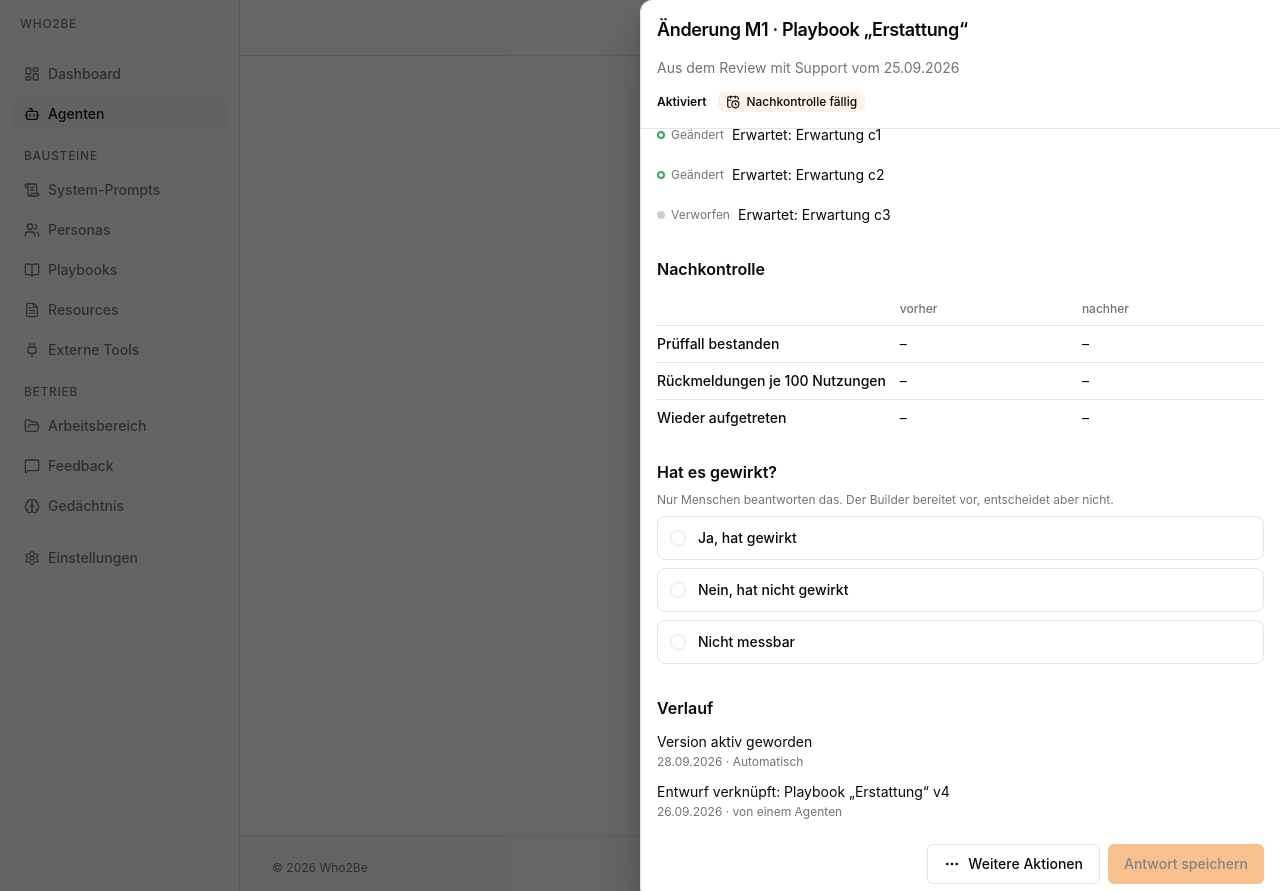
Test: ChangeActions: Fehler › sonst (session_cases_invalid): problem.detail des Servers
This screenshot has width=1280, height=891.
(page scrolled)
What coordinates should you click on to do the following:
click the radio button named "Ja, hat gewirkt" next to "Ja, hat gewirkt"
I would click on:
 (678, 538)
Its box is [670,530,686,546].
(page scrolled)
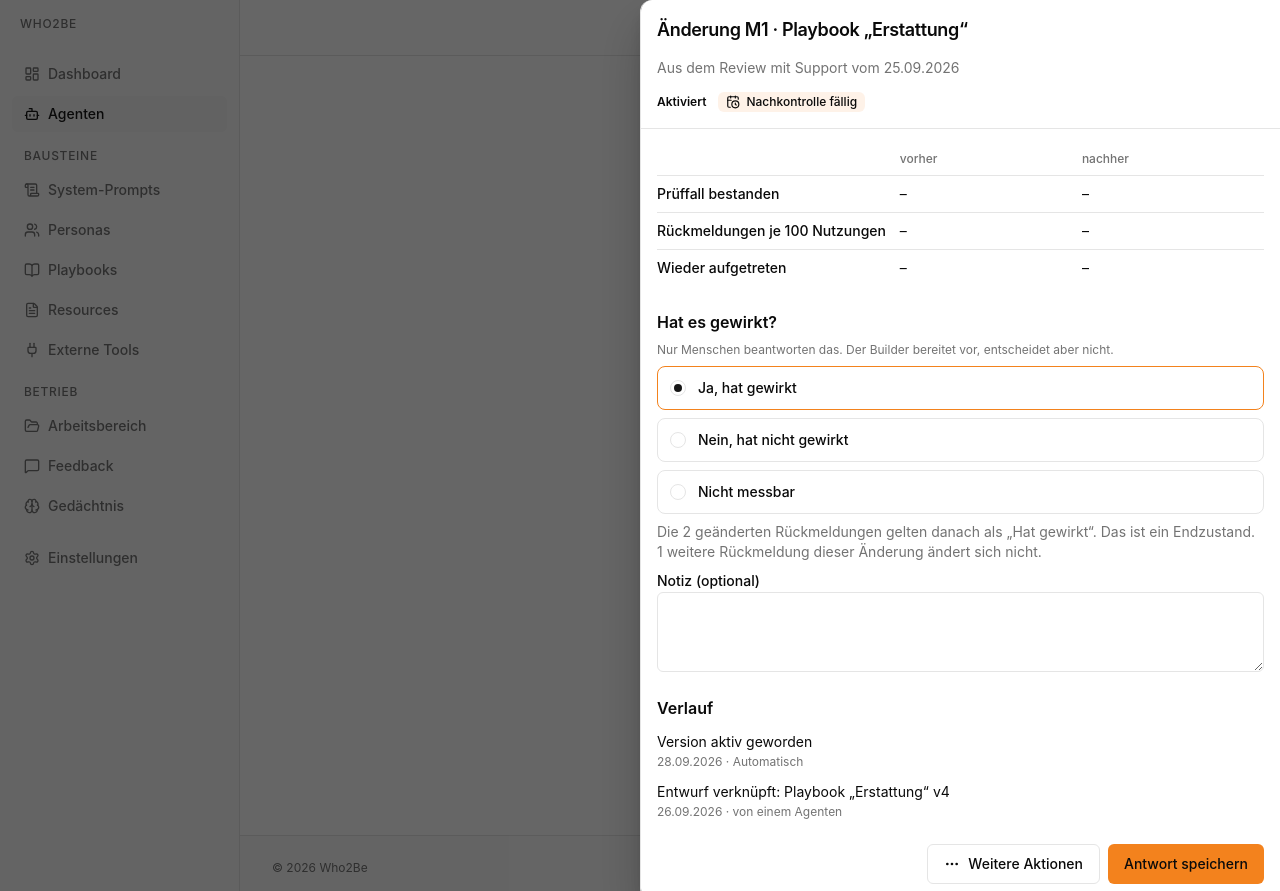
What coordinates should you click on to do the following:
click the button "Antwort speichern"
I would click on:
 (1186, 864)
Its box is [1108,844,1264,884].
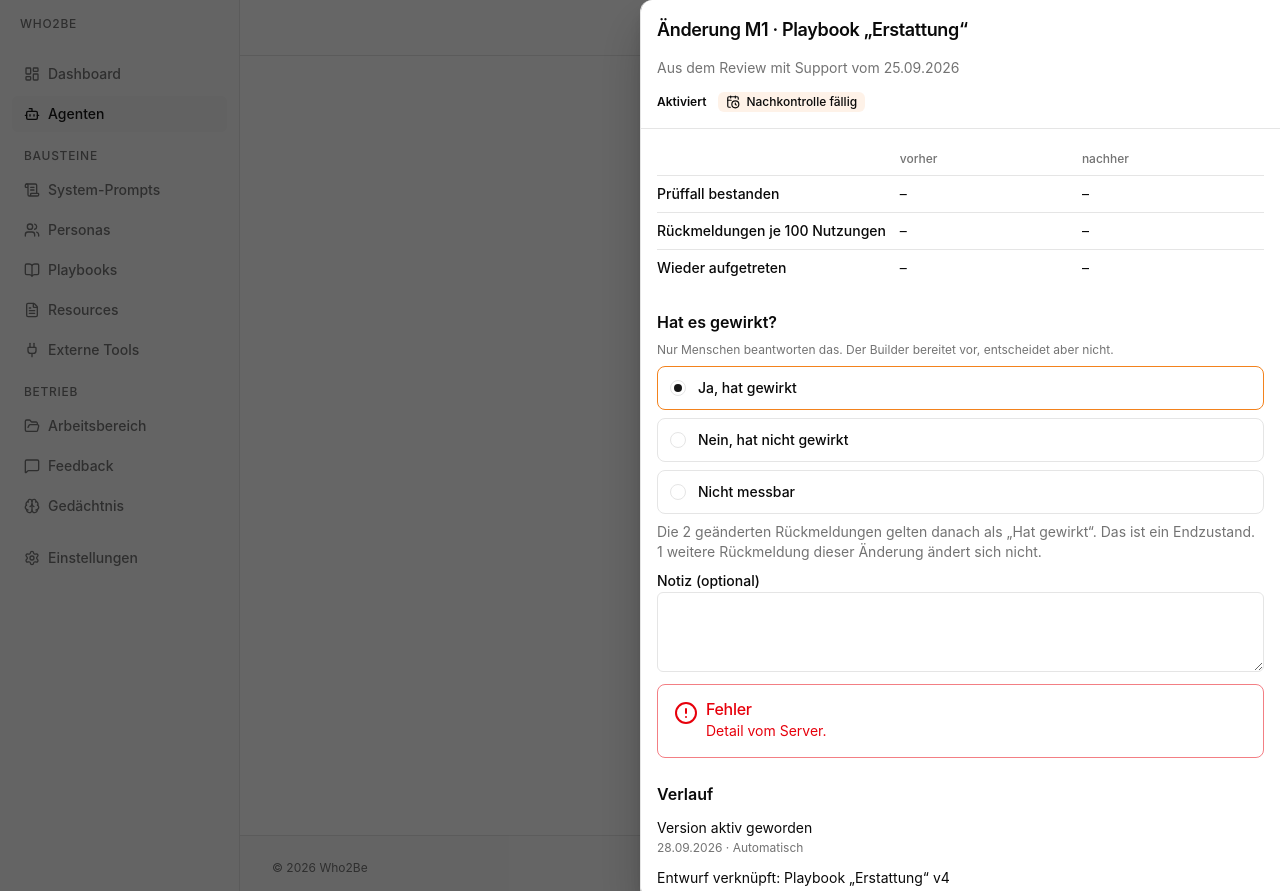
Expected: the message shows "Detail vom Server.", [706,722,826,739]
